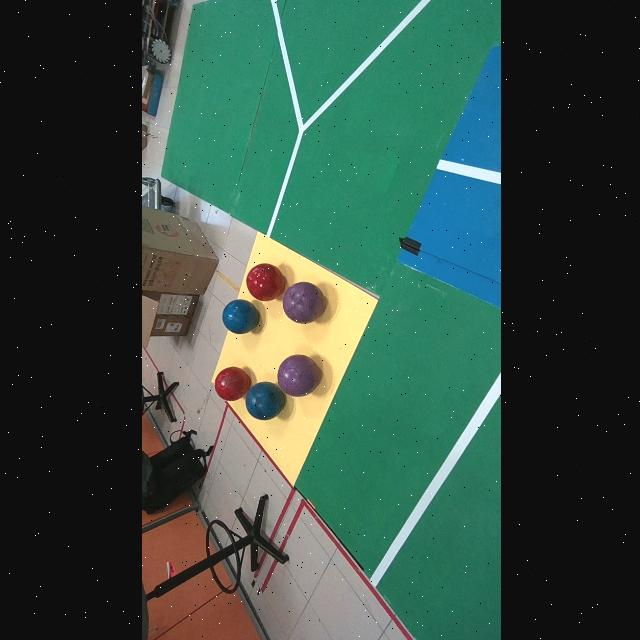B: (244, 381, 282, 420), (221, 300, 256, 334)
P: (276, 355, 320, 397), (282, 282, 323, 323)
R: (245, 263, 283, 301), (213, 366, 247, 401)
